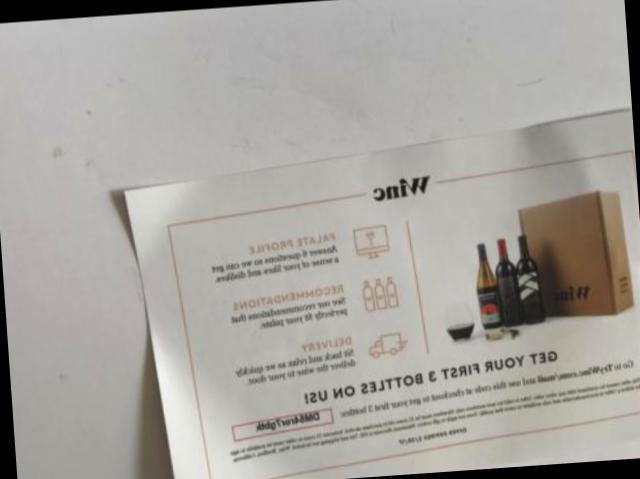cardboard paper: (126, 109, 640, 479)
